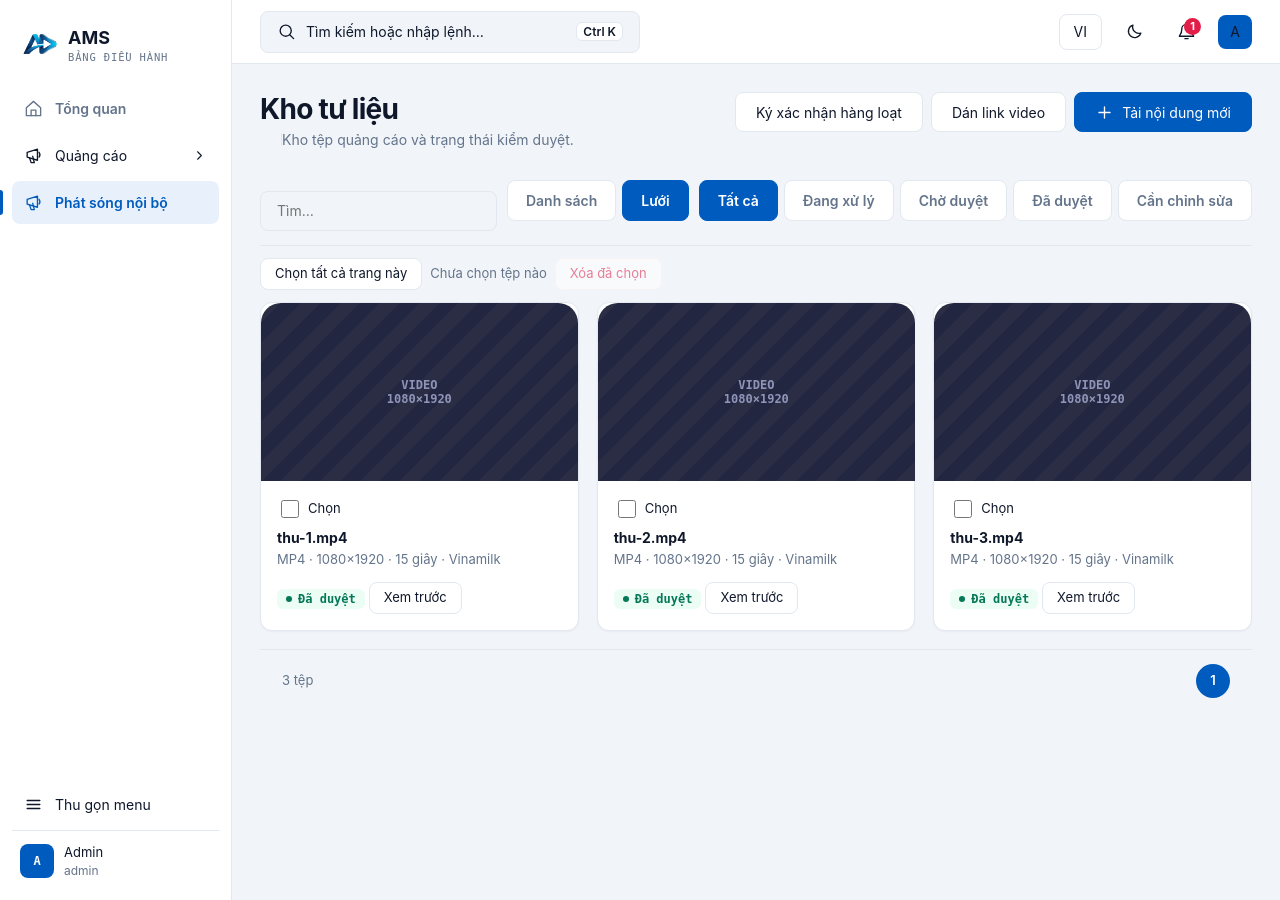
Media: xoa hang loat › chon 2 tep: hop xac nhan neu so tep + dung luong + canh bao khong hoan tac, KHONG bat go XOA; gui ids; hien tep bi bo qua kem ly do
Expected: the text "thu-1.mp4" is shown, [277,529,347,546]
Expected: the button "Xóa đã chọn" is disabled, [555,258,662,290]
Click the checkbox named "Chọn tệp thu-1.mp4": (290, 509) [281,500,299,518]
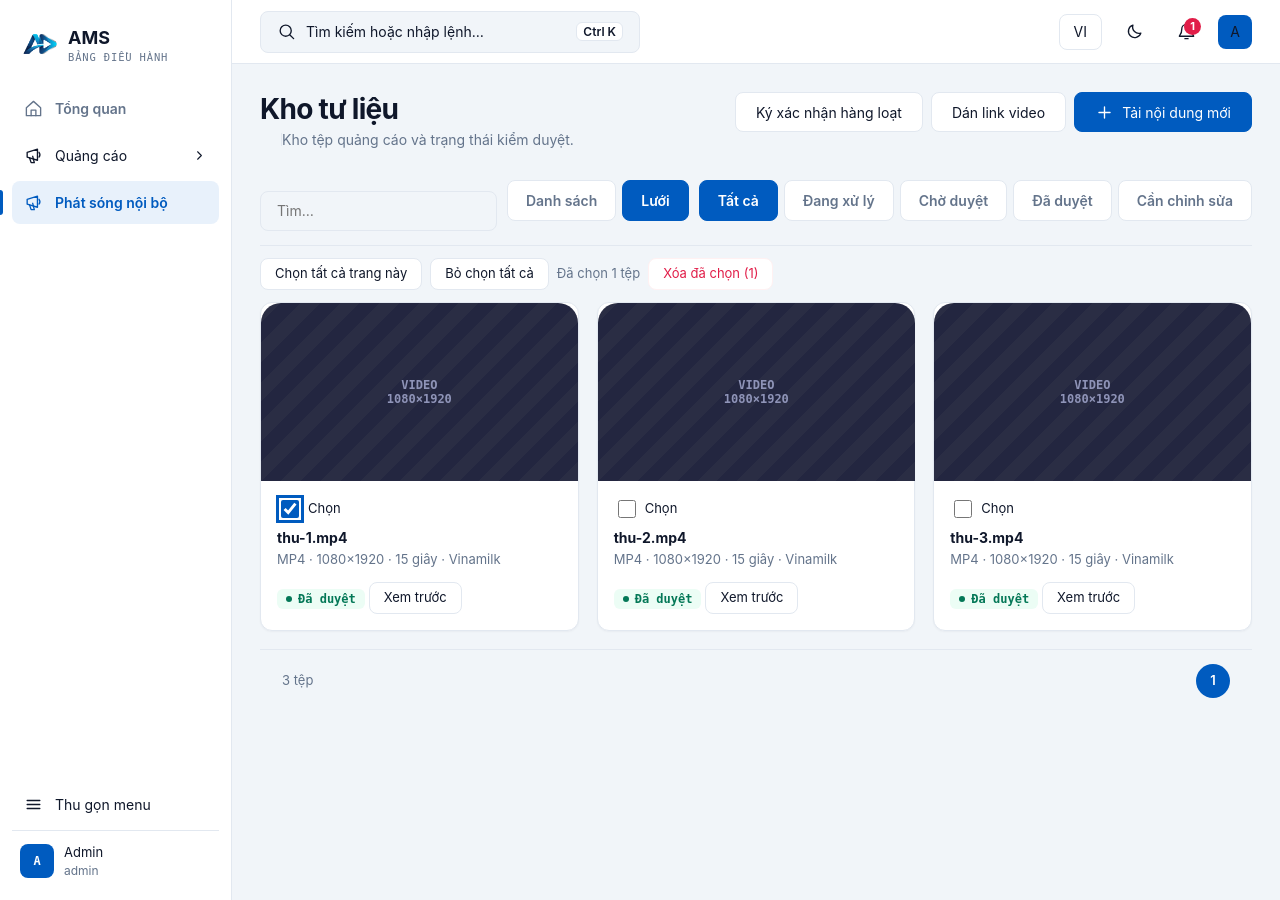
Click the checkbox named "Chọn tệp thu-2.mp4": (627, 509) [618,500,636,518]
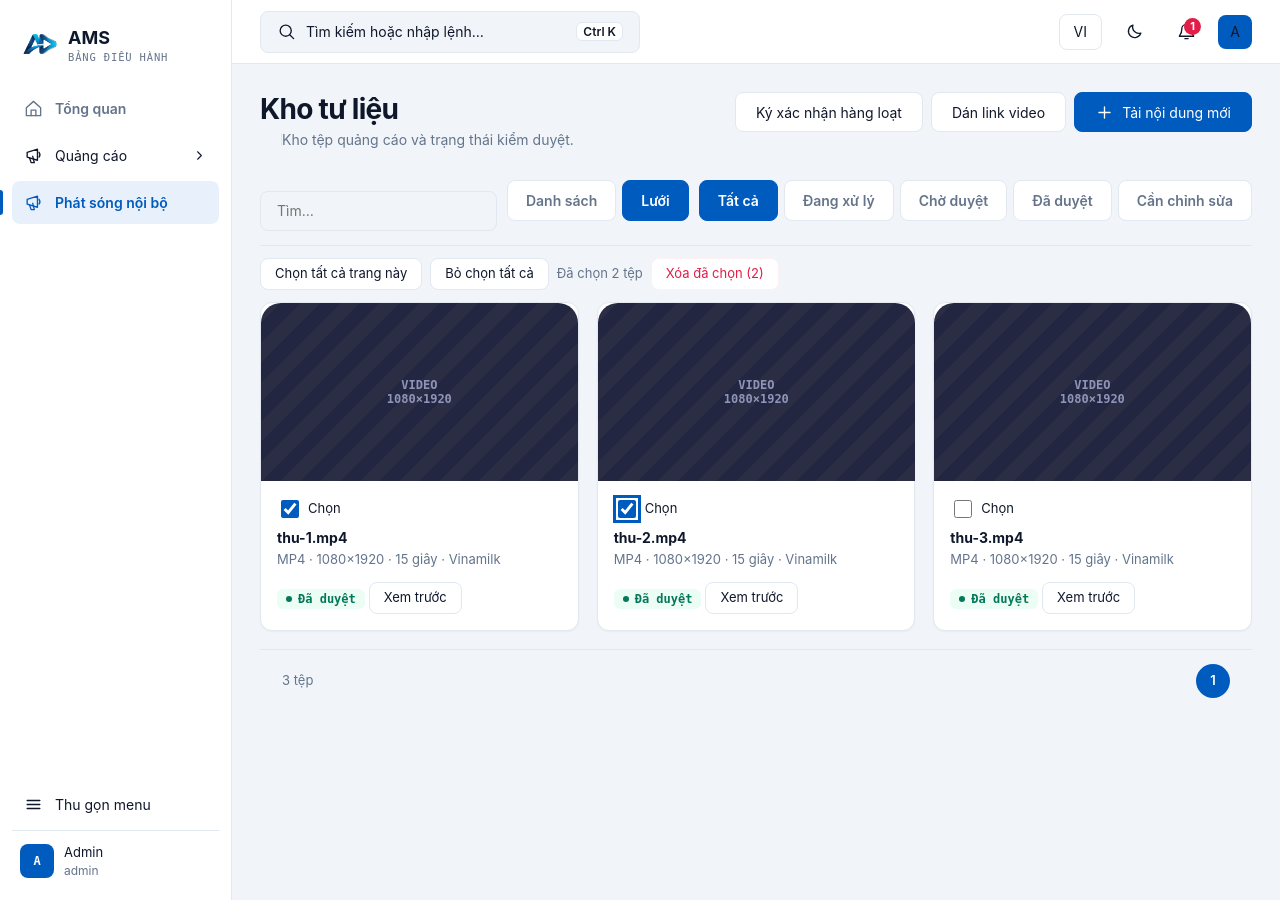
Expected: the text "Đã chọn 2 tệp" is shown, [557,264,643,284]
Click the button "Xóa đã chọn (2)": (715, 274) [651,258,779,290]
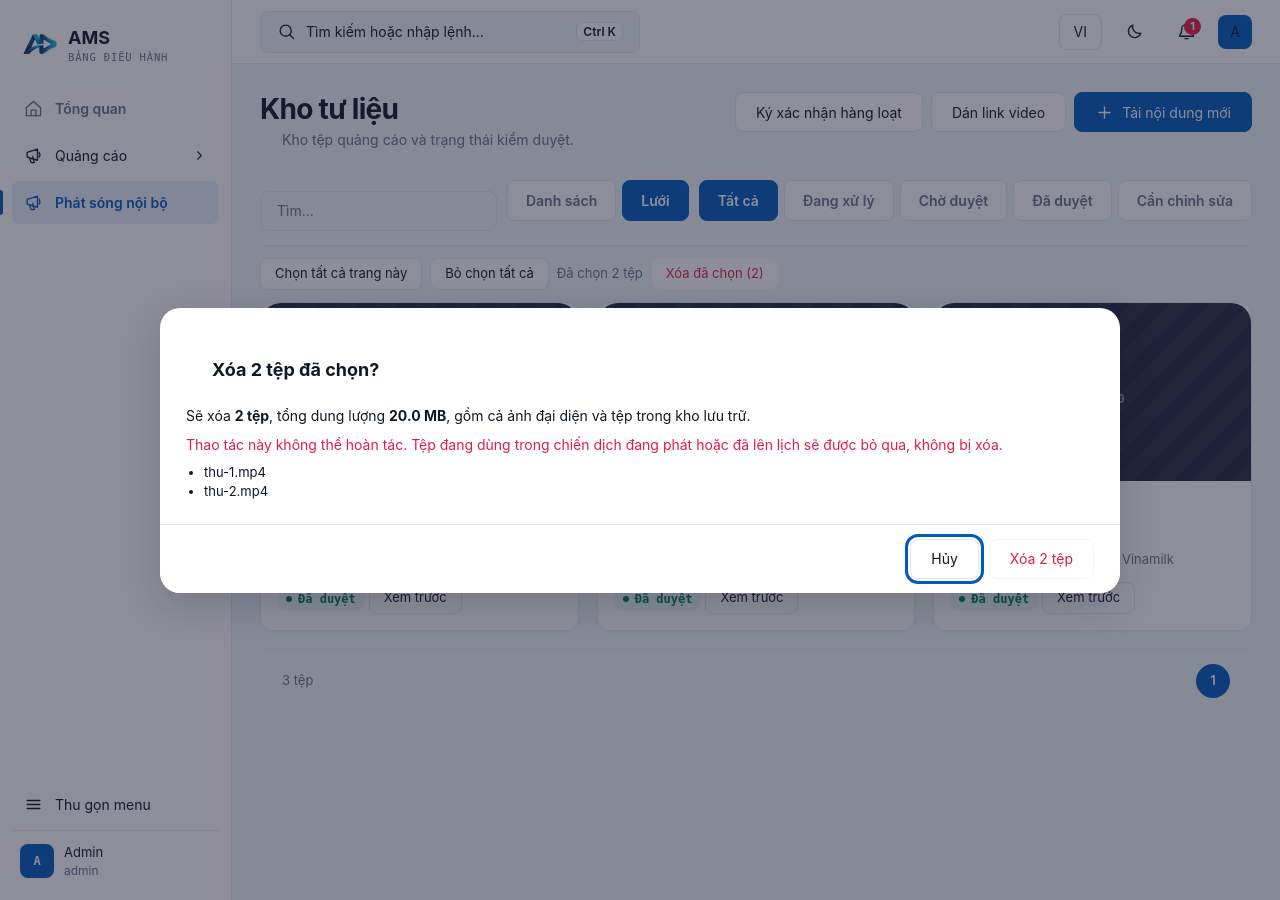
Expected: the dialog named "Xóa các tệp đã chọn" shows "2 tệp"
Expected: the dialog named "Xóa các tệp đã chọn" shows "20.0 MB", [389,406,446,424]
Expected: the dialog named "Xóa các tệp đã chọn" shows "không thể hoàn tác", [186,436,1003,452]
Click the button "Xóa 2 tệp": (1041, 558) [989,538,1094,578]
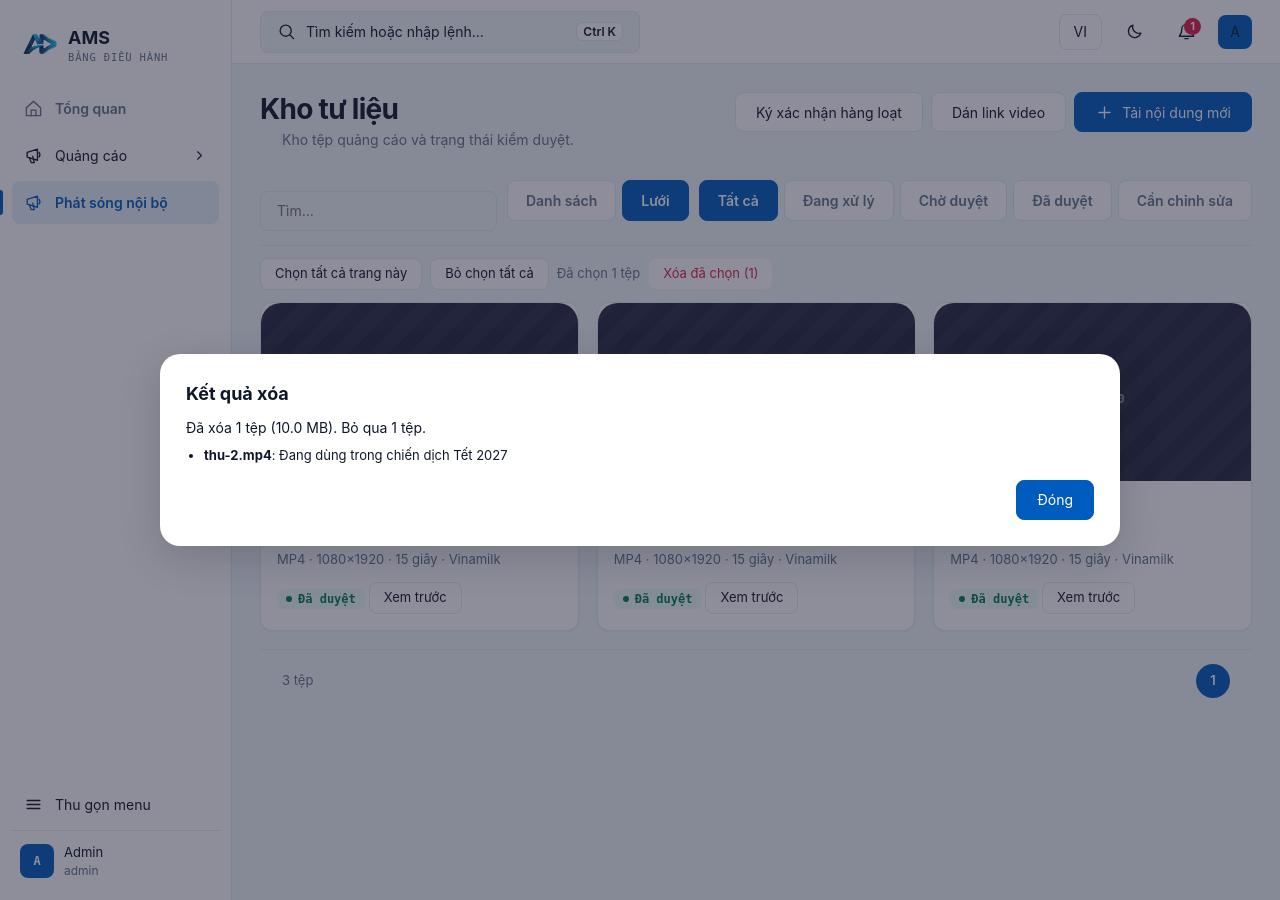
Expected: the list named "Tệp bị bỏ qua" reads "thu-2.mp4: Đang dùng trong chiến dịch Tết 2027", [204,447,508,463]
Expected: the dialog named "Xóa các tệp đã chọn" shows "Đã xóa 1 tệp", [160,354,1120,546]
